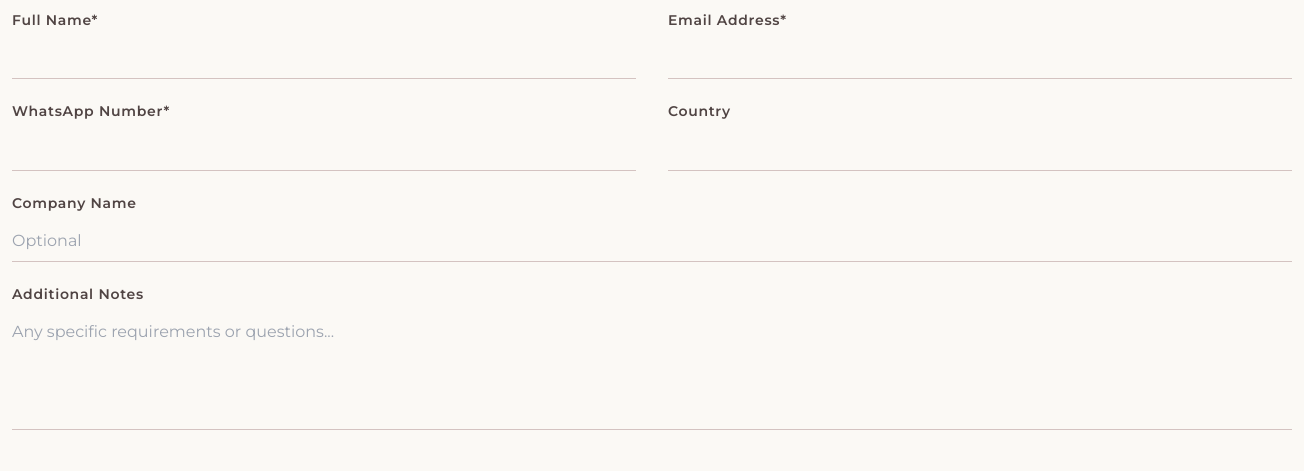
Test case: QuoteContactForm › clears error when valid value is entered
Type "bad" into the field labelled "Email Address*" at (980, 58), box [668,37,1292,79]
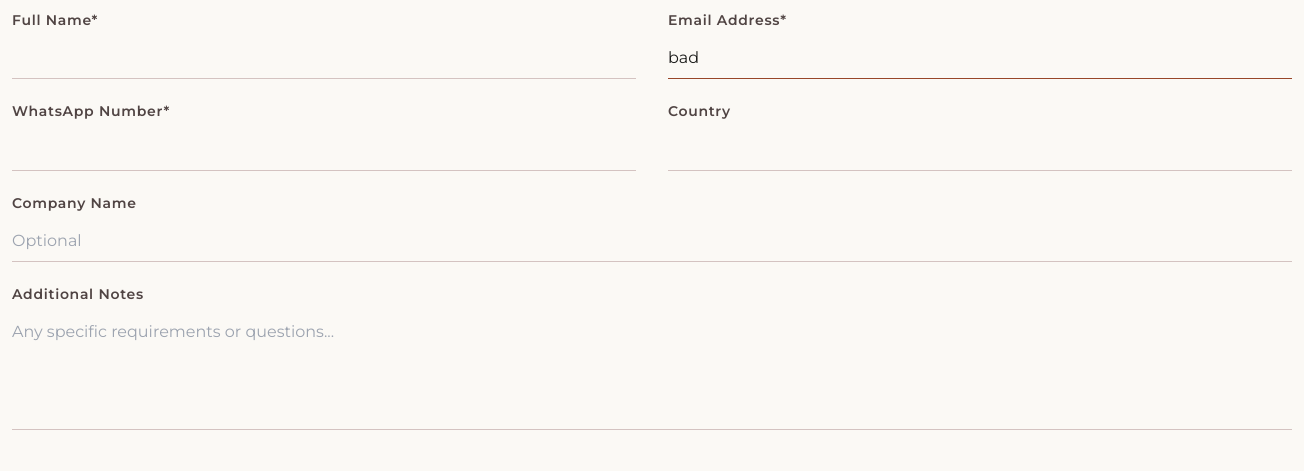
Press Tab
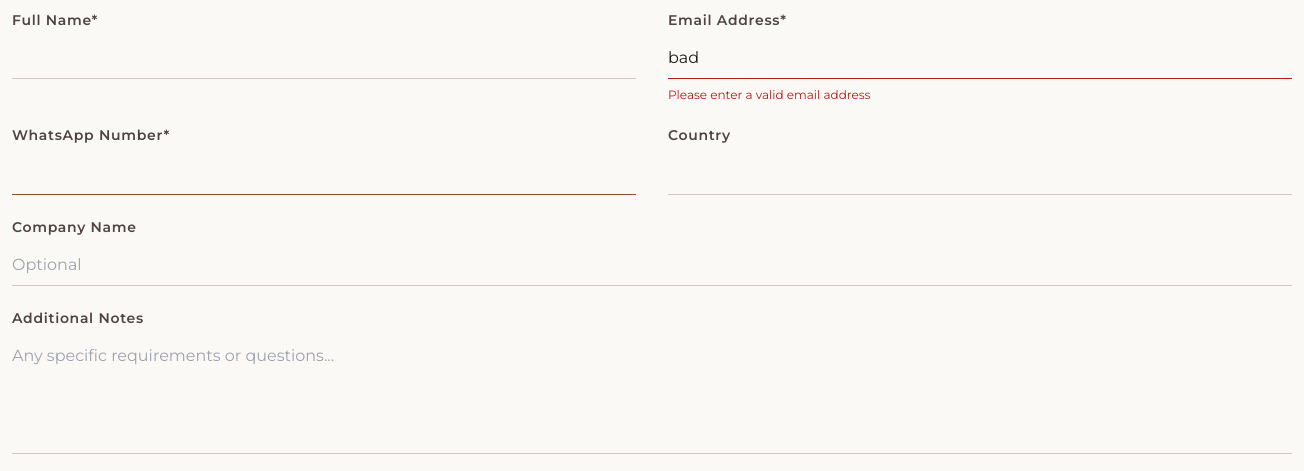
Result: the text "Please enter a valid email address" is shown at [668,87,870,102]
Replace the text in the field labelled "Email Address*" with "good@email.com" at (980, 58), box [668,37,1292,79]
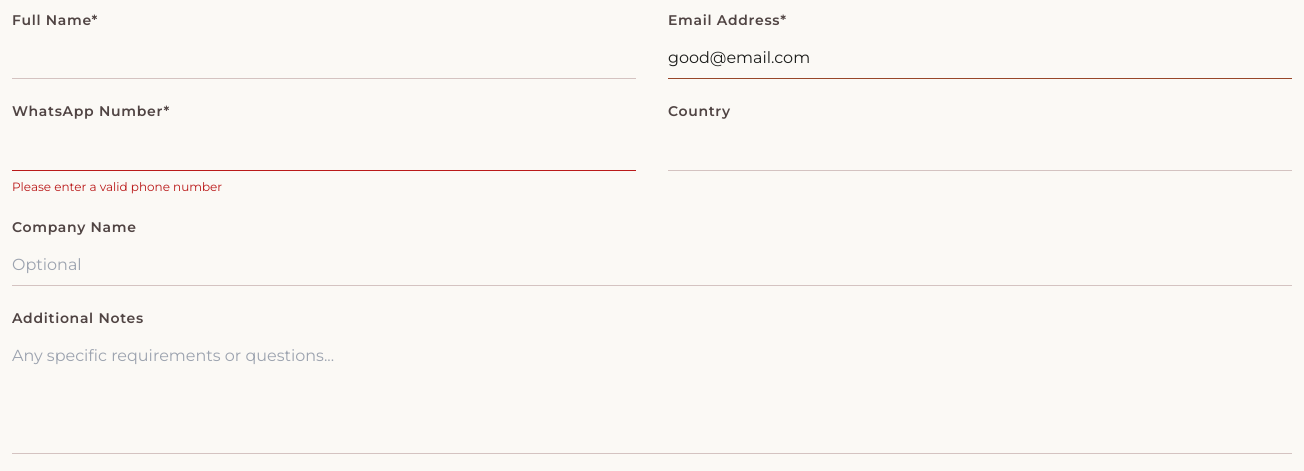
Result: the text "valid email" is gone
